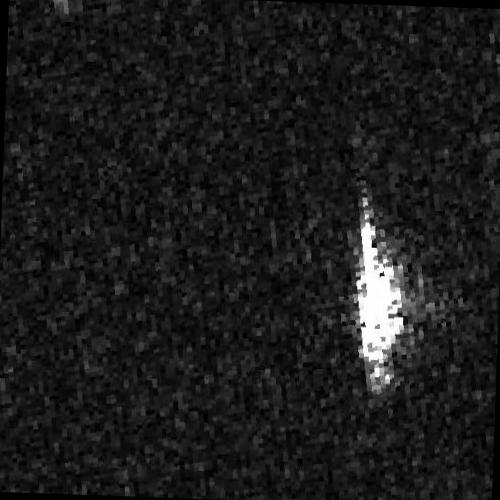ship: (356, 202, 404, 381)
